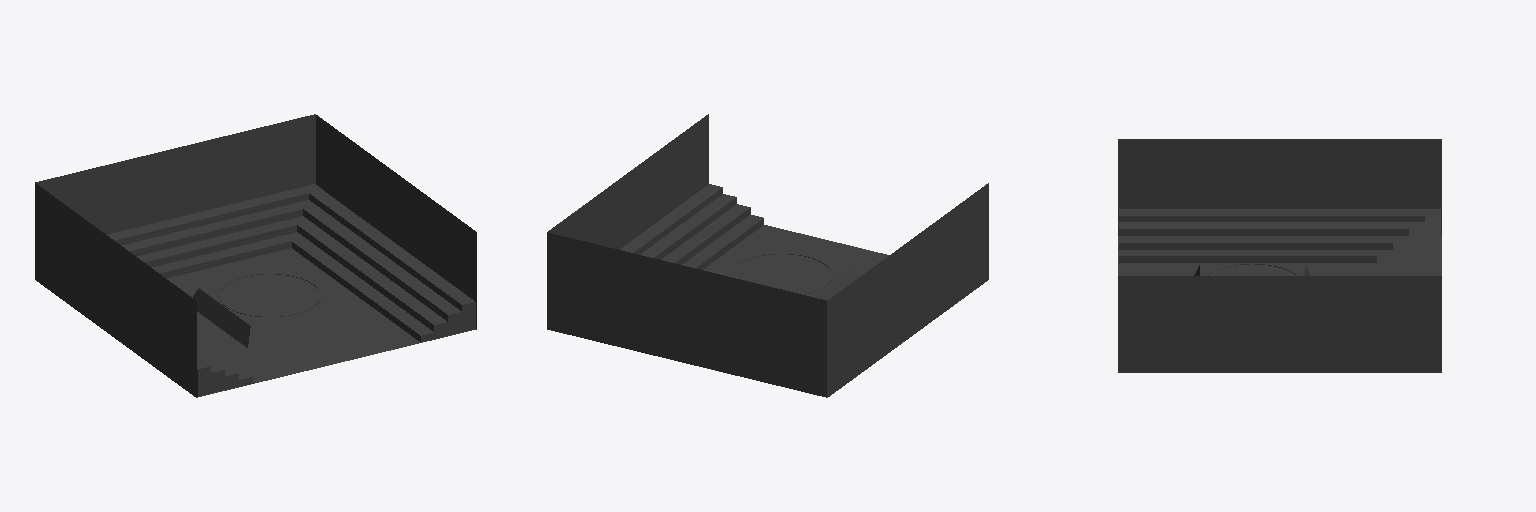
The model's file is dohyo.obj.
The picture shows the model from 3 angles: view 1: azimuth 30°, elevation 25°; view 2: azimuth 150°, elevation 25°; view 3: azimuth 270°, elevation 25°; orthographic projection.
Visible parts, largest first — view 1: Cube.001, Plane.006, Plane.004, Plane.005, Plane.003, Plane, Circle; view 2: Plane.006, Plane.004, Plane.005, Cube.001, Plane.003, Circle, Plane; view 3: Plane.005, Plane.004, Cube.001, Plane.003, Circle.
Boxes of the visible parts, x1,y1,x2,y2 form: Cube.001: [107, 184, 475, 396]; Plane.006: [35, 114, 315, 234]; Plane.004: [35, 183, 196, 397]; Plane.005: [316, 115, 476, 328]; Plane.003: [167, 248, 476, 397]; Plane: [193, 266, 350, 347]; Circle: [218, 273, 321, 316]; Plane.006: [547, 232, 826, 397]; Plane.004: [827, 183, 988, 397]; Plane.005: [548, 114, 708, 249]; Cube.001: [620, 184, 763, 269]; Plane.003: [547, 225, 888, 390]; Circle: [730, 253, 832, 294]; Plane: [723, 246, 858, 300]; Plane.005: [1118, 276, 1441, 372]; Plane.004: [1118, 139, 1441, 235]; Cube.001: [1119, 209, 1440, 275]; Plane.003: [1118, 236, 1441, 275]; Circle: [1206, 263, 1298, 275].
Size of the model in its own units: 40.06 by 13.25 by 40.06.